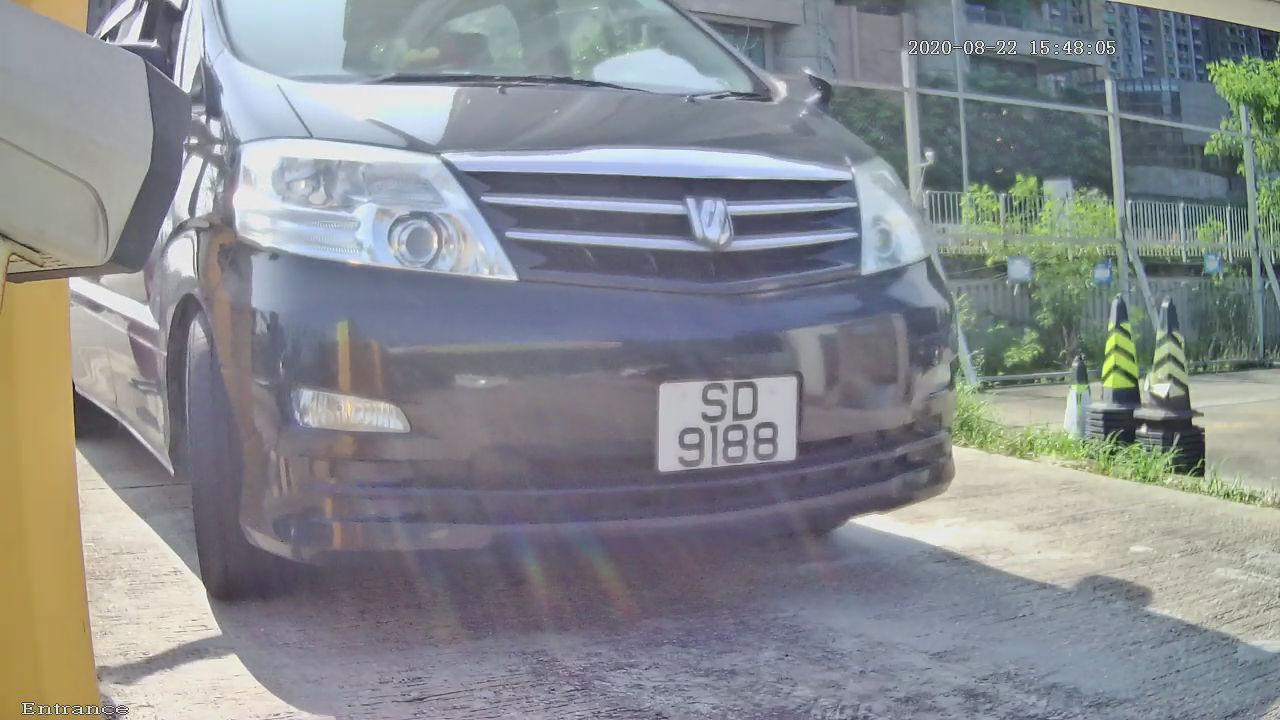Car: (35, 7, 1012, 643)
License Plate: (629, 351, 812, 492)
